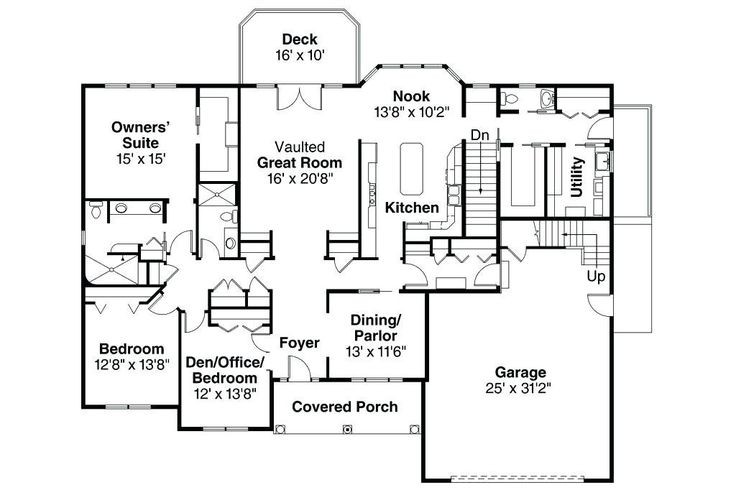door: (270, 87, 328, 114), (584, 288, 614, 327), (282, 355, 311, 384), (168, 231, 198, 257), (148, 294, 174, 317), (472, 264, 496, 288), (406, 261, 429, 286), (158, 263, 181, 286), (586, 120, 612, 140), (199, 238, 223, 259), (182, 312, 206, 332), (215, 278, 241, 295), (329, 258, 354, 275), (243, 257, 267, 274), (250, 279, 269, 291)
room: (239, 81, 374, 260), (179, 291, 274, 433), (81, 294, 181, 408), (372, 137, 467, 247), (323, 287, 430, 383), (80, 198, 170, 287), (194, 181, 241, 261)
wall: (606, 317, 616, 480), (355, 139, 364, 257), (419, 380, 429, 484), (78, 83, 87, 196), (499, 214, 612, 223), (608, 173, 616, 296), (79, 296, 88, 403), (178, 80, 251, 90), (539, 81, 614, 90), (494, 162, 501, 258), (422, 296, 430, 379), (83, 279, 142, 290), (211, 302, 272, 312), (266, 373, 276, 430), (431, 234, 497, 241), (194, 141, 203, 181), (199, 178, 238, 186), (109, 249, 142, 258), (79, 249, 87, 284), (153, 401, 179, 411), (324, 231, 331, 260), (144, 260, 152, 284), (241, 238, 271, 244), (139, 257, 163, 264), (135, 243, 143, 263), (460, 83, 465, 114), (267, 233, 273, 257)
window: (103, 81, 177, 91), (351, 374, 403, 386), (202, 424, 248, 435), (107, 403, 151, 409), (77, 226, 88, 246), (323, 81, 340, 91), (517, 81, 534, 91), (472, 81, 490, 90), (257, 83, 274, 89)
